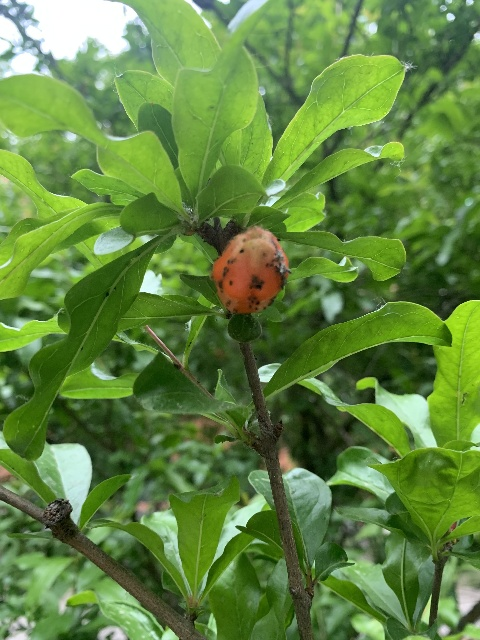bud: (213, 226, 289, 314)
